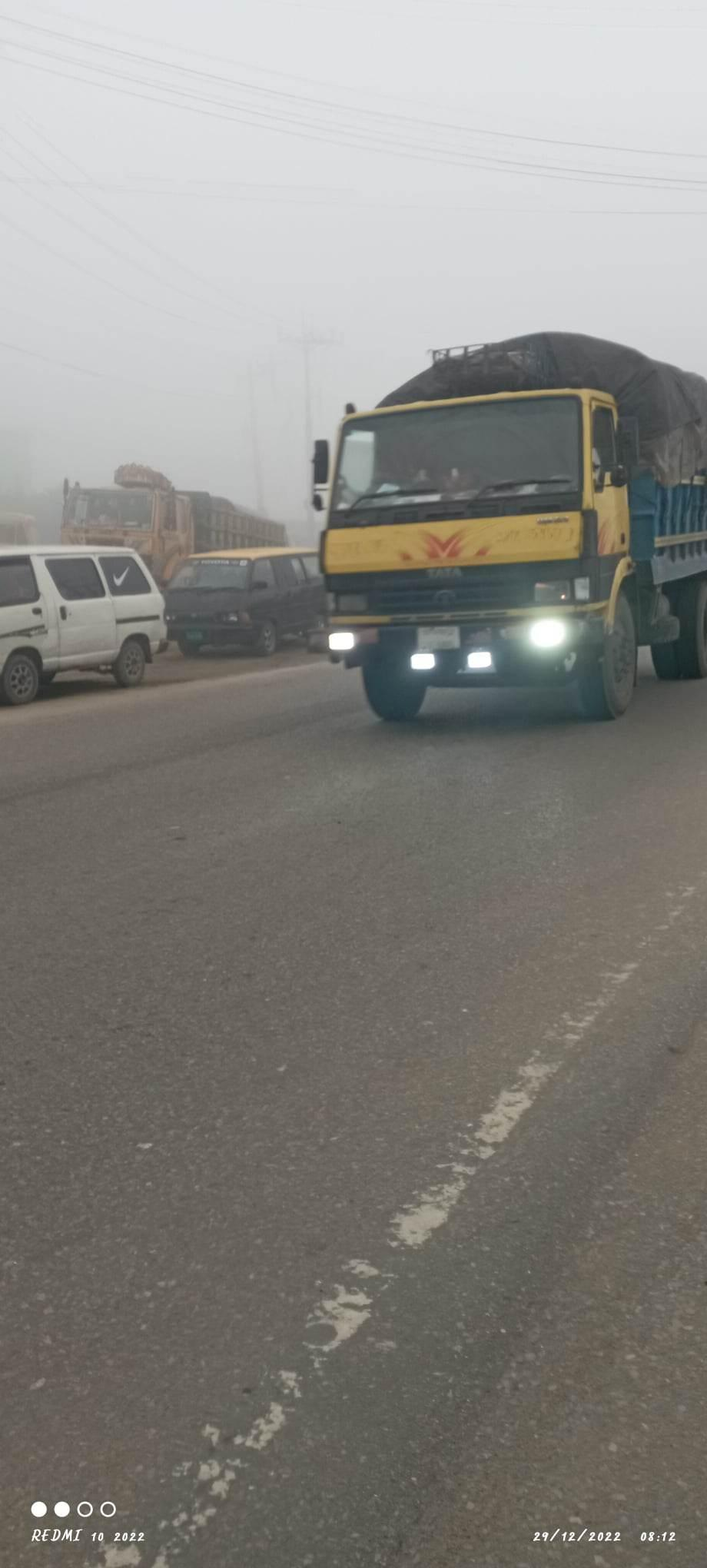Car: (15, 516, 170, 697), (167, 537, 335, 666)
Truck: (296, 304, 703, 748), (57, 465, 290, 597)
